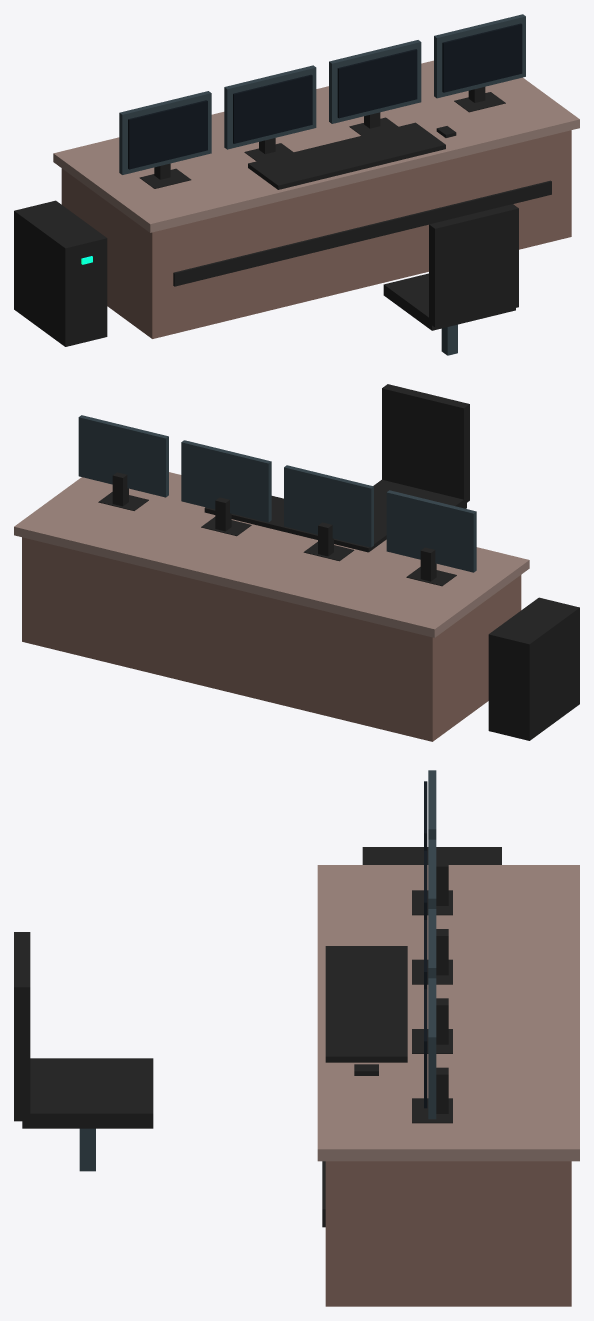
File: console.glb
3 renders of one model, top to bottom at view 1: azimuth 30°, elevation 25°; view 2: azimuth 150°, elevation 25°; view 3: azimuth 270°, elevation 25°, orthographic. The views are drawn at different scales.
Parts seen in each view (by area): view 1: Desk, DeskTop, Tower, ChairBack, Keyboard, Drawer, Screen3, Screen2, Screen1, Screen0, Frame1, Frame2 (+6 smaller); view 2: Desk, DeskTop, Tower, ChairBack, Frame0, Frame2, Frame3, Frame1, Keyboard, ChairSeat, Stand0, Stand3 (+2 smaller); view 3: DeskTop, Desk, Keyboard, ChairSeat, ChairBack, Tower, Frame3, ChairLeg, Base3.
Part boxes in pixels (x1=…): Desk: x1=61, y1=130, x2=571, y2=338; DeskTop: x1=53, y1=60, x2=579, y2=232; Tower: x1=14, y1=200, x2=107, y2=346; ChairBack: x1=429, y1=204, x2=518, y2=327; Keyboard: x1=248, y1=122, x2=445, y2=189; Drawer: x1=173, y1=180, x2=551, y2=286; Screen3: x1=442, y1=23, x2=522, y2=92; Screen2: x1=337, y1=49, x2=417, y2=118; Screen1: x1=233, y1=74, x2=312, y2=143; Screen0: x1=128, y1=100, x2=207, y2=169; Frame1: x1=224, y1=65, x2=316, y2=149; Frame2: x1=329, y1=40, x2=421, y2=123; Desk: x1=22, y1=537, x2=521, y2=741; DeskTop: x1=14, y1=472, x2=529, y2=637; Tower: x1=488, y1=597, x2=579, y2=740; ChairBack: x1=382, y1=384, x2=469, y2=504; Frame0: x1=386, y1=490, x2=476, y2=572; Frame2: x1=181, y1=440, x2=271, y2=522; Frame3: x1=78, y1=415, x2=168, y2=497; Frame1: x1=284, y1=465, x2=373, y2=547; Keyboard: x1=204, y1=496, x2=386, y2=552; ChairSeat: x1=373, y1=479, x2=466, y2=523; Stand0: x1=420, y1=547, x2=436, y2=581; Stand3: x1=112, y1=472, x2=128, y2=506; DeskTop: x1=317, y1=865, x2=579, y2=1161; Desk: x1=325, y1=1161, x2=571, y2=1306; Keyboard: x1=325, y1=946, x2=407, y2=1062; ChairSeat: x1=22, y1=1058, x2=153, y2=1128; ChairBack: x1=14, y1=932, x2=30, y2=1121; Tower: x1=362, y1=847, x2=501, y2=864; Frame3: x1=428, y1=978, x2=436, y2=1119; ChairLeg: x1=79, y1=1128, x2=95, y2=1171; Base3: x1=412, y1=1098, x2=452, y2=1123.
Size of the model in its own units: 4.75 by 1.78 by 3.45.
